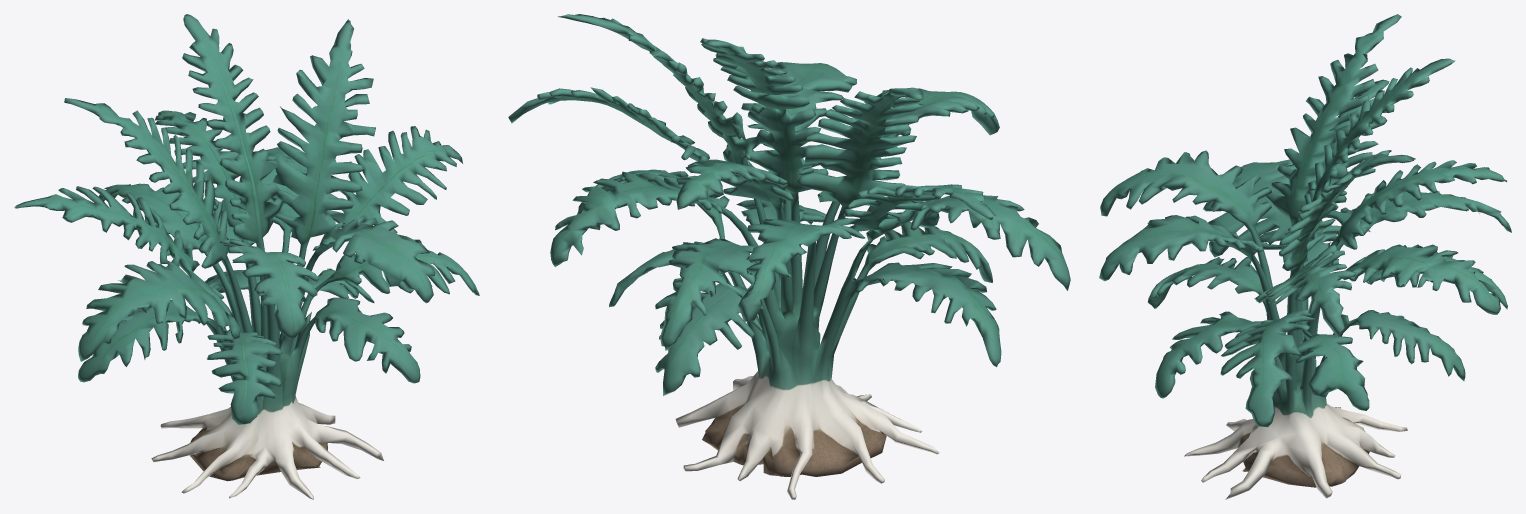
Rendered from fern.glb.
The picture shows the model from 3 angles, left to right: view 1: azimuth 30°, elevation 25°; view 2: azimuth 150°, elevation 25°; view 3: azimuth 270°, elevation 25°; orthographic projection. The views are drawn at different scales.
Visible parts, largest first — view 1: model; view 2: model; view 3: model.
Boxes of the visible parts, x1,y1,x2,y2 form: model: [14, 14, 479, 499]; model: [508, 14, 1070, 499]; model: [1099, 14, 1511, 499].
Bounding box in the file's own units: 1.84 × 1.6 × 1.51.
Materials: 1 (1 with a texture image).
